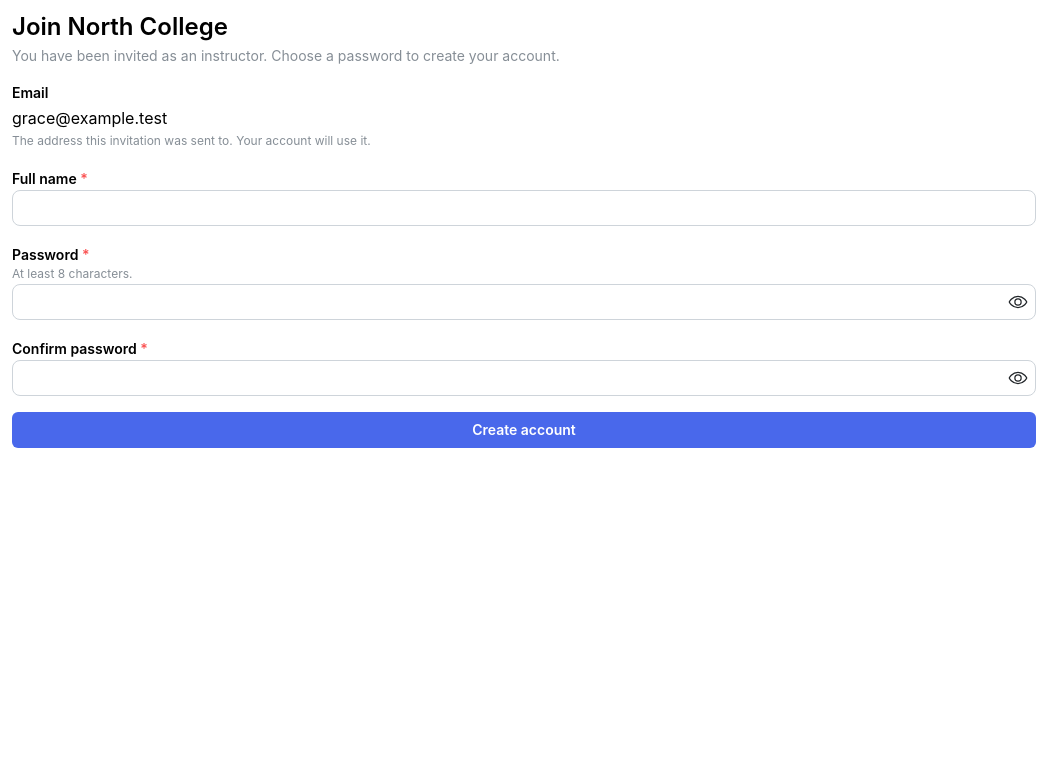
it: AcceptInvitationRoute › answers a refusal at submit time above the form, with a way to sign in
Step 1. Type "Grace Hopper" into the field labelled "Full name *" → (524, 208), box [12,190,1036,226]
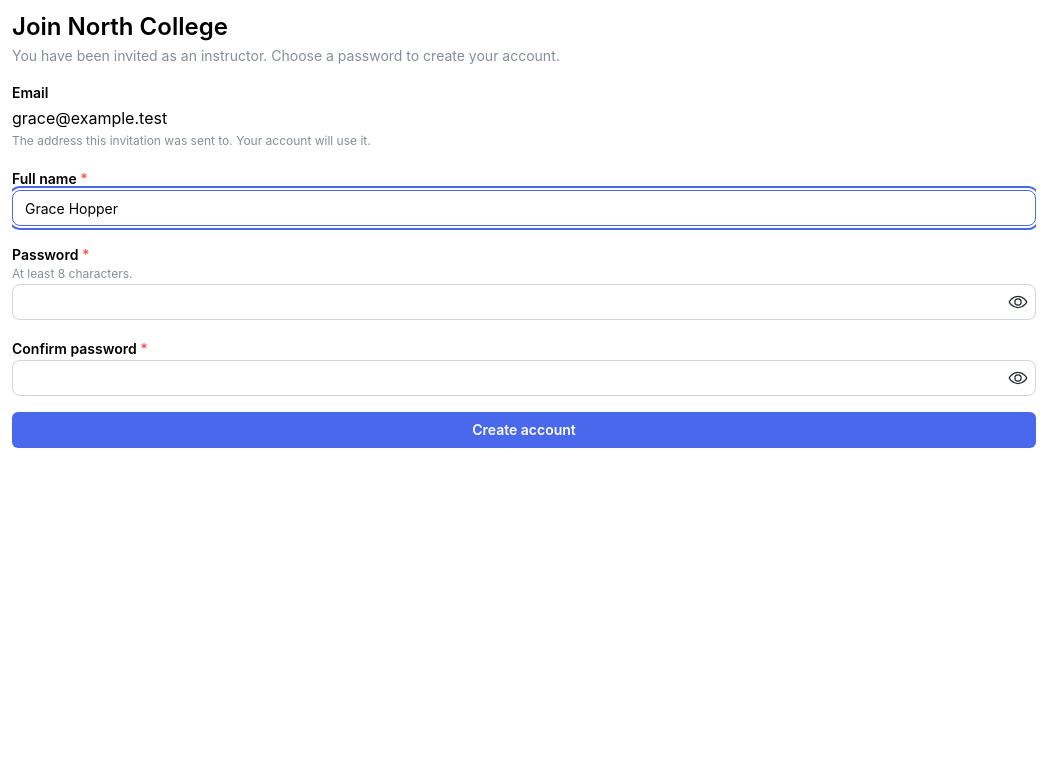
Step 2. Type "correct horse battery" into the password field labelled "Password *" → (524, 302), box [13,285,1035,319]
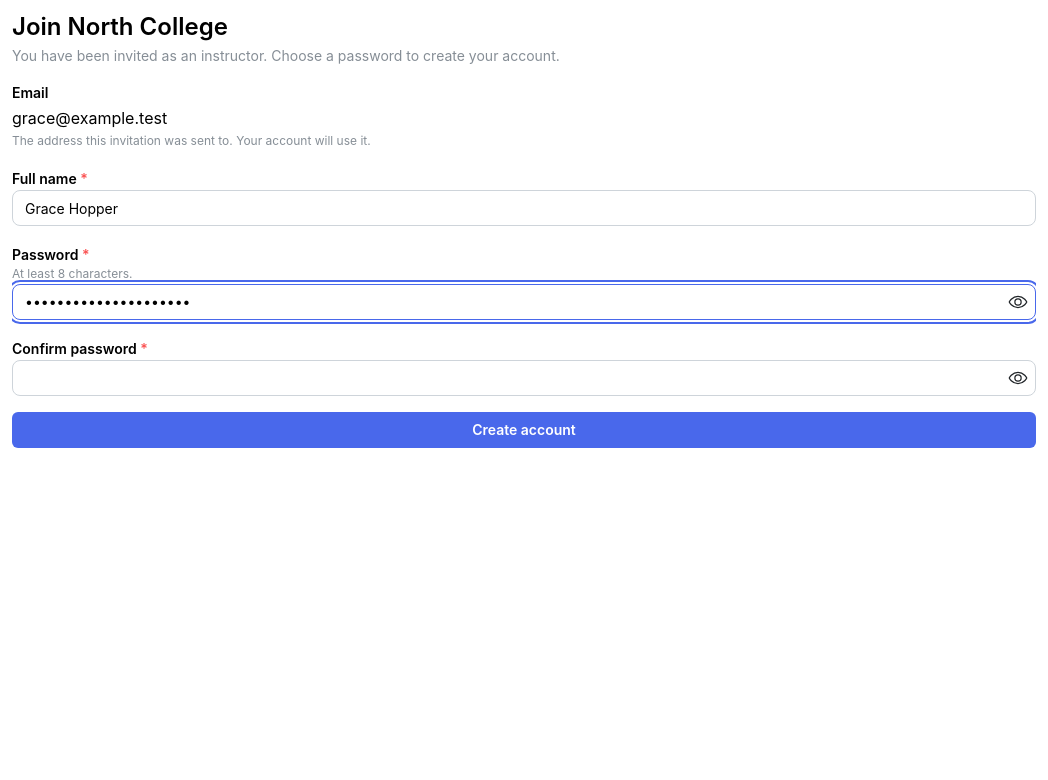
Step 3. Type "correct horse battery" into the password field labelled "Confirm password *" → (524, 378), box [13,361,1035,395]
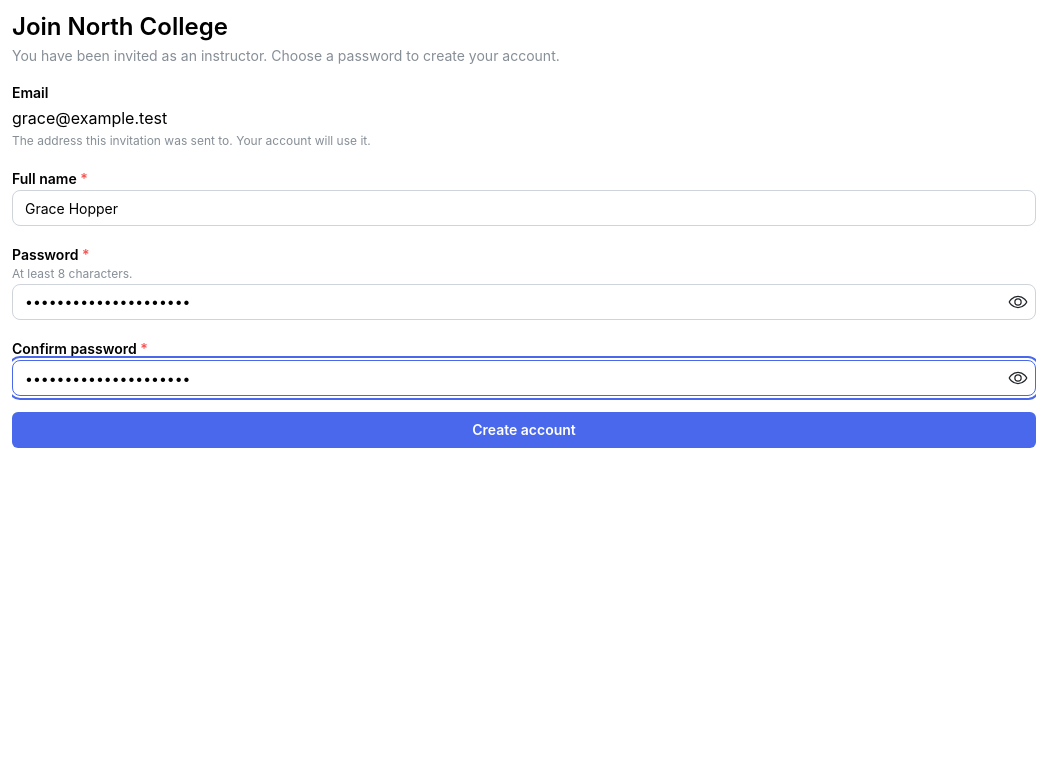
Step 4. Click the button "Create account" → (524, 430), box [12,412,1036,448]
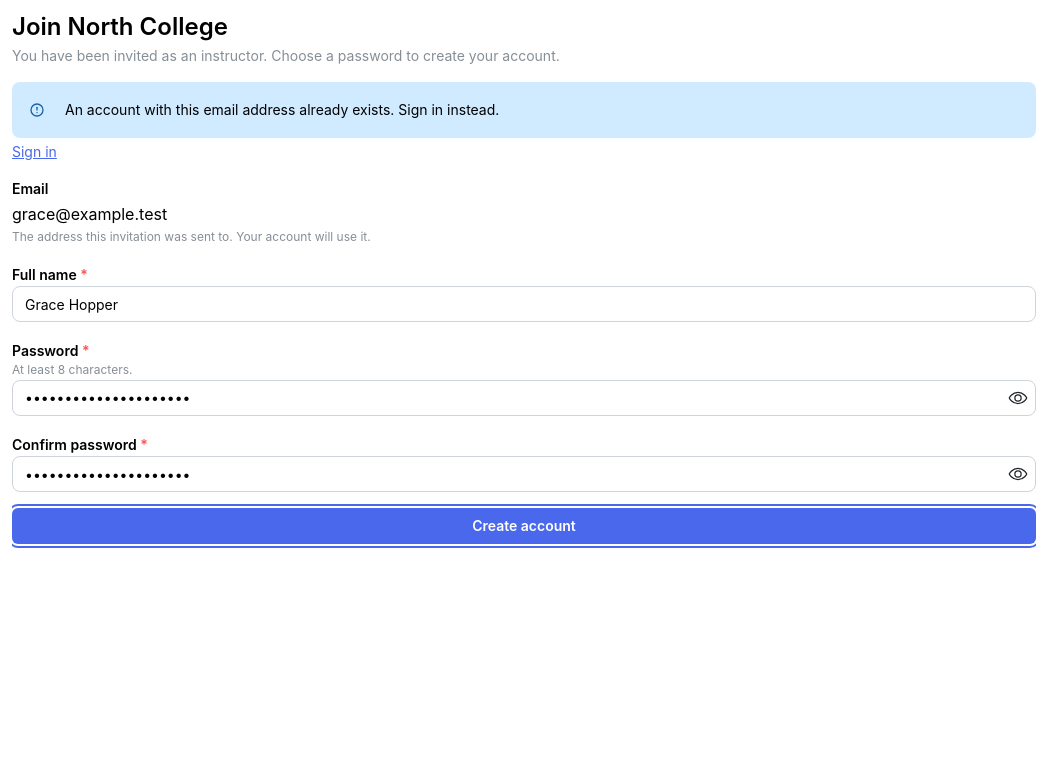
Result: the text "already exists" is shown at [65,101,499,118]
Result: the link "Sign in" is shown at [12,143,57,160]
